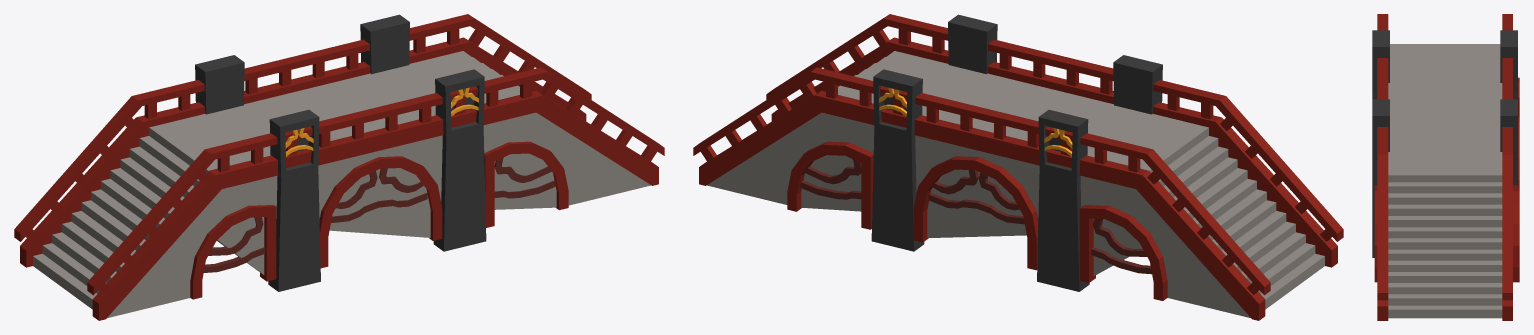
File: Bridge_6.fbx
The picture shows the model from 3 angles, left to right: view 1: azimuth 30°, elevation 25°; view 2: azimuth 150°, elevation 25°; view 3: azimuth 270°, elevation 25°; orthographic projection. The views are drawn at different scales.
Visible parts, largest first — view 1: Bridge_6; view 2: Bridge_6; view 3: Bridge_6.
Part boxes in pixels (x1=…): Bridge_6: x1=14, y1=14, x2=664, y2=320; Bridge_6: x1=693, y1=14, x2=1343, y2=320; Bridge_6: x1=1372, y1=14, x2=1519, y2=320.
Size of the model in its own units: 640 by 177 by 167.
